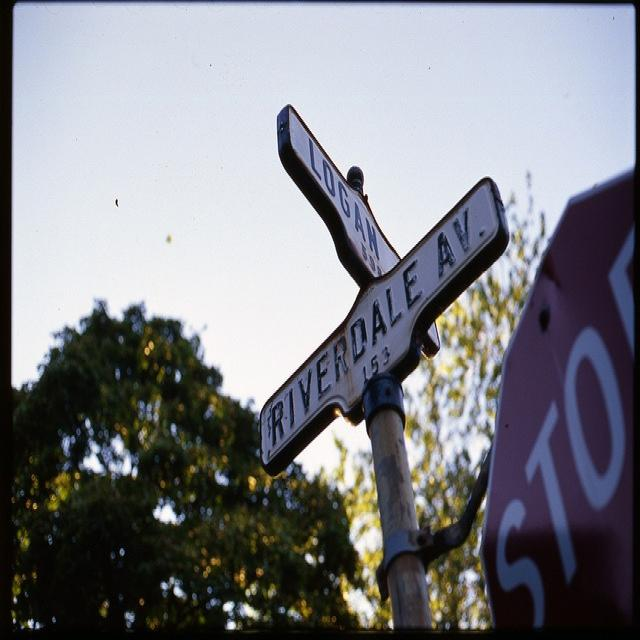pole: (365, 384, 434, 637)
